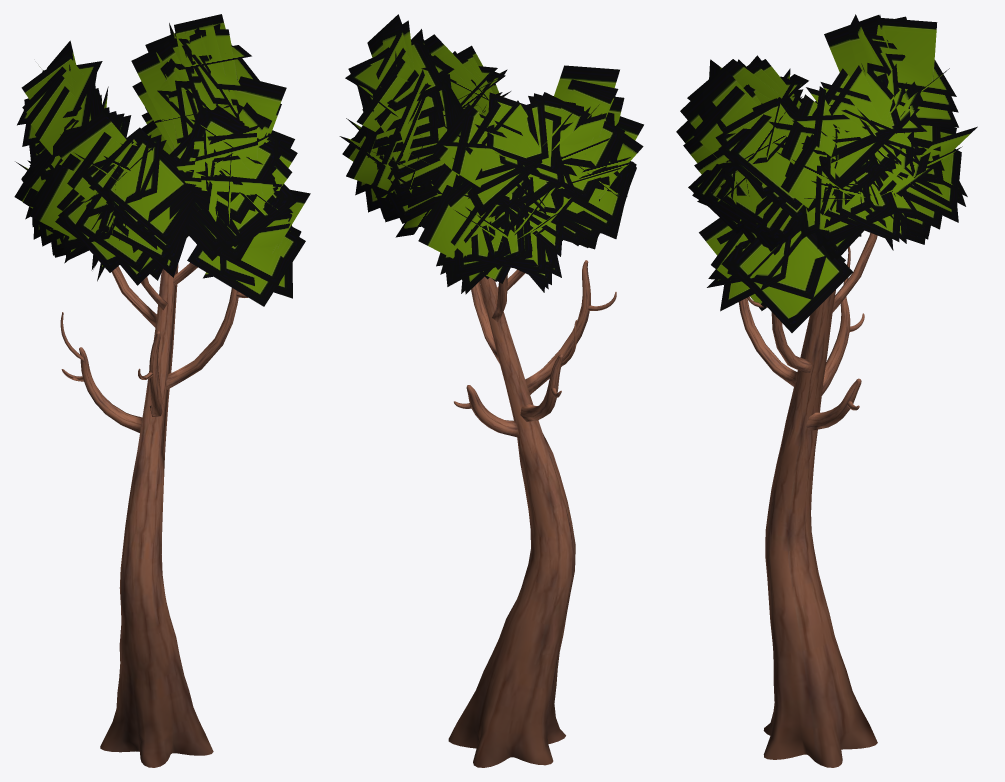
The model's file is agac.glb.
The picture shows the model from 3 angles, left to right: view 1: azimuth 30°, elevation 25°; view 2: azimuth 150°, elevation 25°; view 3: azimuth 270°, elevation 25°; orthographic projection. The views are drawn at different scales.
Visible parts, largest first — view 1: CommonTree_4; view 2: CommonTree_4; view 3: CommonTree_4.
Boxes of the visible parts, x1,y1,x2,y2 form: CommonTree_4: (14,14,310,767); CommonTree_4: (339,14,643,767); CommonTree_4: (676,14,977,767).
Bounding box in the file's own units: 3.83 × 9.44 × 3.76.
2 materials, 2 textured.
